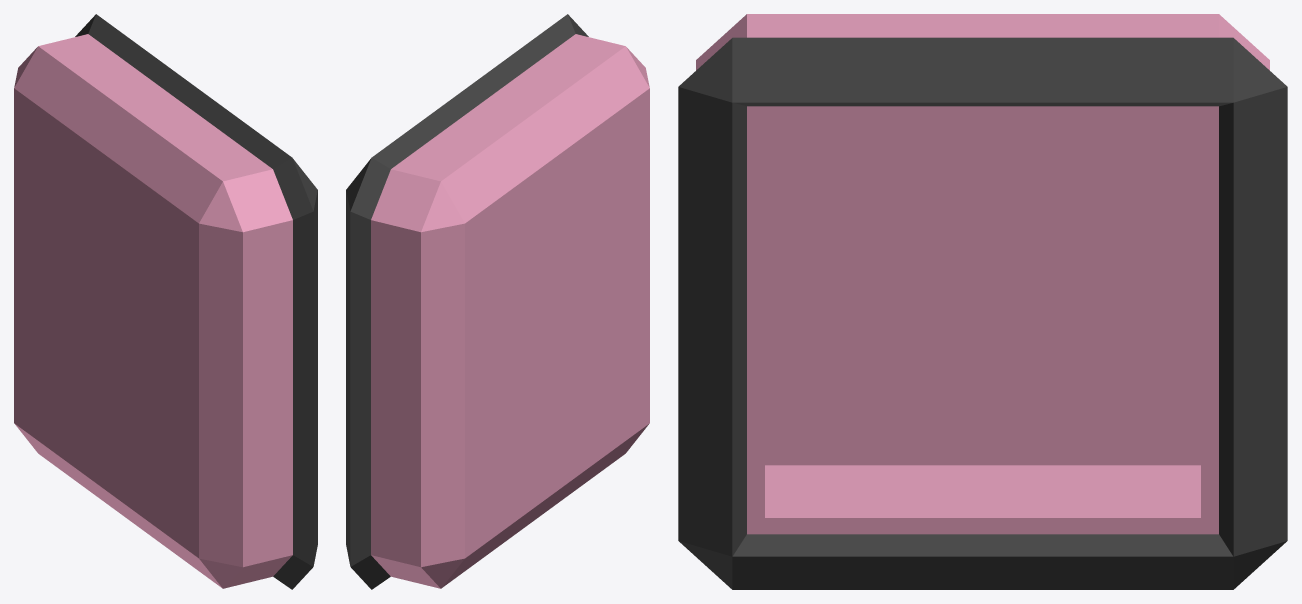
File: Spider Island Level 1 Square Box.fbx
The picture shows the model from 3 angles, left to right: view 1: azimuth 30°, elevation 25°; view 2: azimuth 150°, elevation 25°; view 3: azimuth 270°, elevation 25°; orthographic projection. The views are drawn at different scales.
Parts seen in each view (by area): view 1: Cube.001; view 2: Cube.001; view 3: Cube.001.
Boxes of the visible parts, <box> form: Cube.001: <box>14,14,317,589</box>; Cube.001: <box>346,14,649,589</box>; Cube.001: <box>678,14,1287,589</box>.
Size of the model in its own units: 0.5817 by 2.12 by 2.12.
